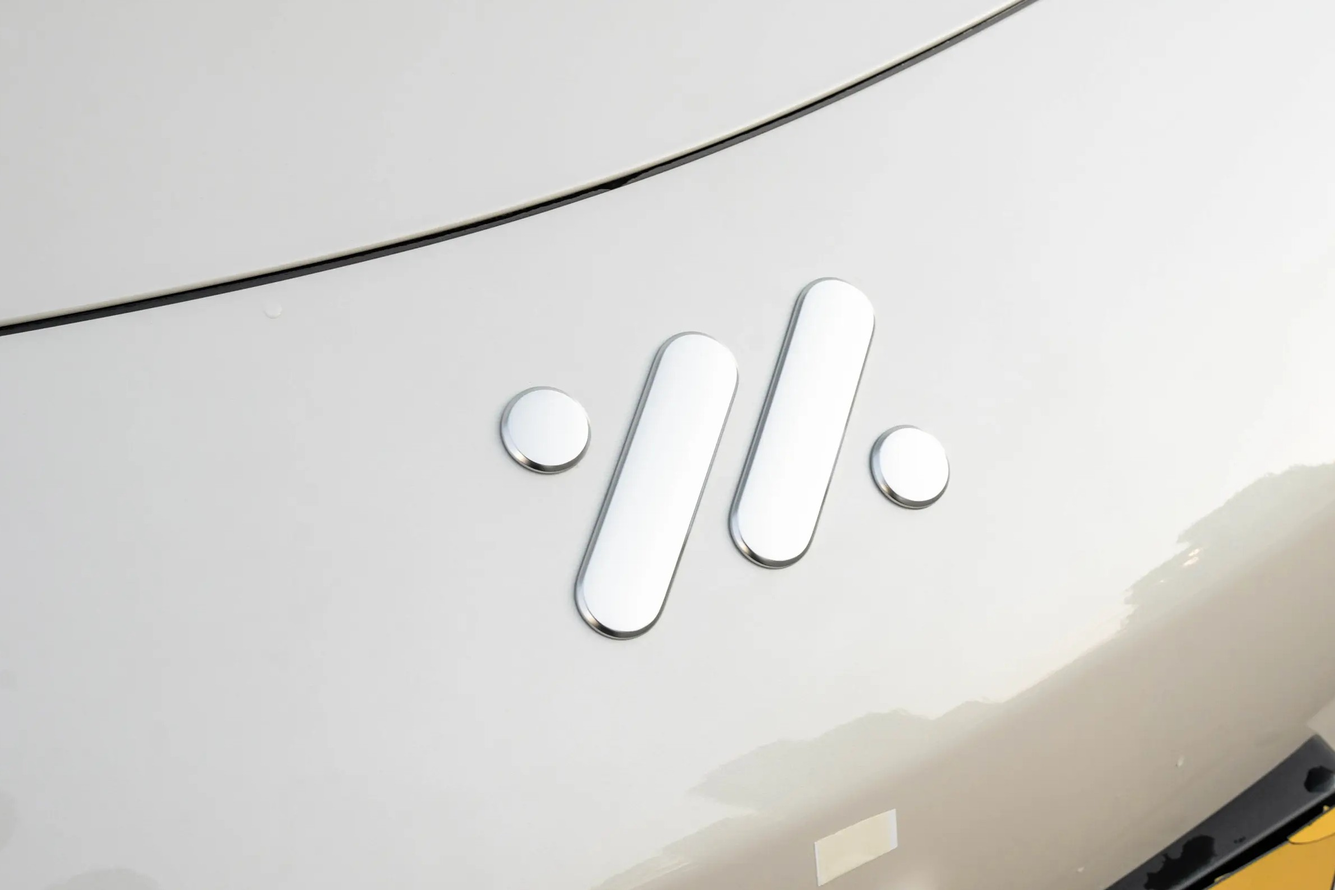IM: (502, 279, 951, 642)
